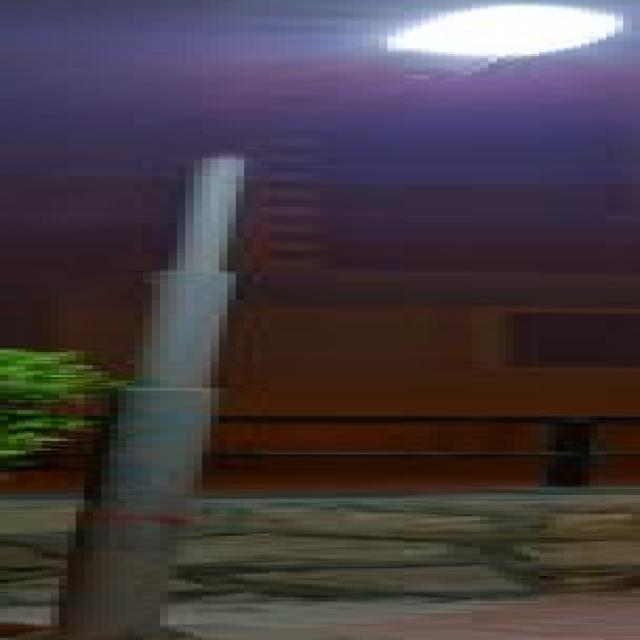street light: (8, 2, 640, 640)
